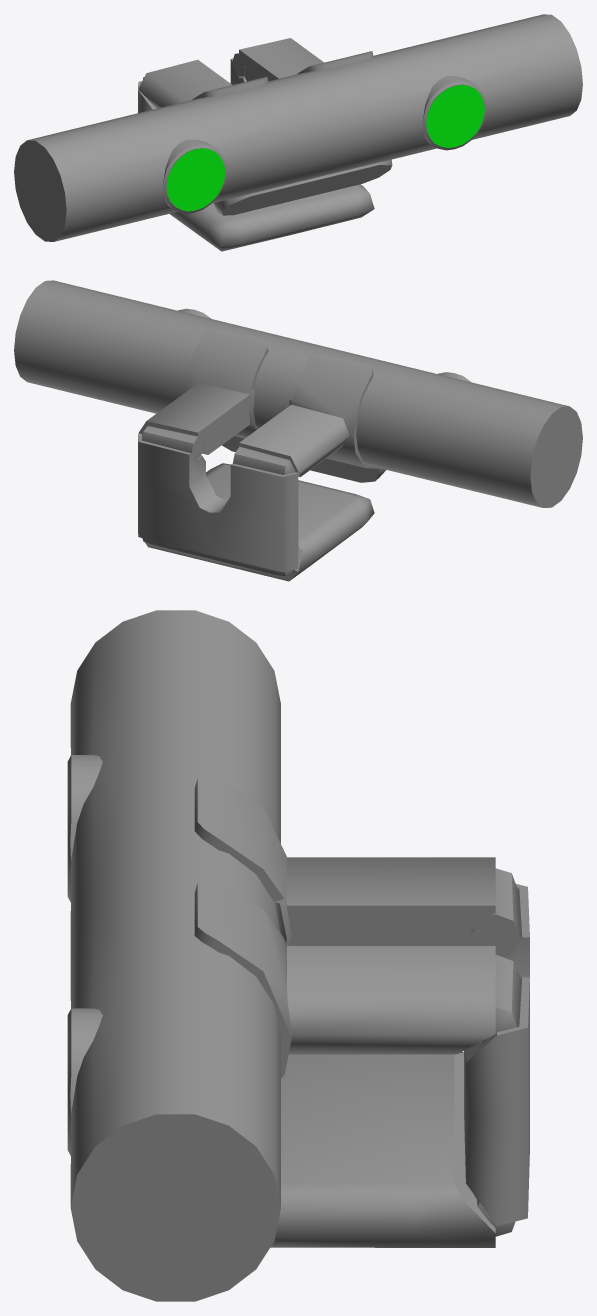
File: Camera_01_Mesh.FBX
The picture shows the model from 3 angles, top to bottom: view 1: azimuth 30°, elevation 25°; view 2: azimuth 150°, elevation 25°; view 3: azimuth 270°, elevation 25°; orthographic projection. The views are drawn at different scales.
Visible parts, largest first — view 1: camera_low, Object001; view 2: camera_low; view 3: camera_low.
Boxes of the visible parts, x1,y1,x2,y2 form: camera_low: (14,14,582,251); Object001: (166,84,484,211); camera_low: (14,280,582,581); camera_low: (67,610,529,1301).
Size of the model in its own units: 0.1587 by 0.0479 by 0.0616.
